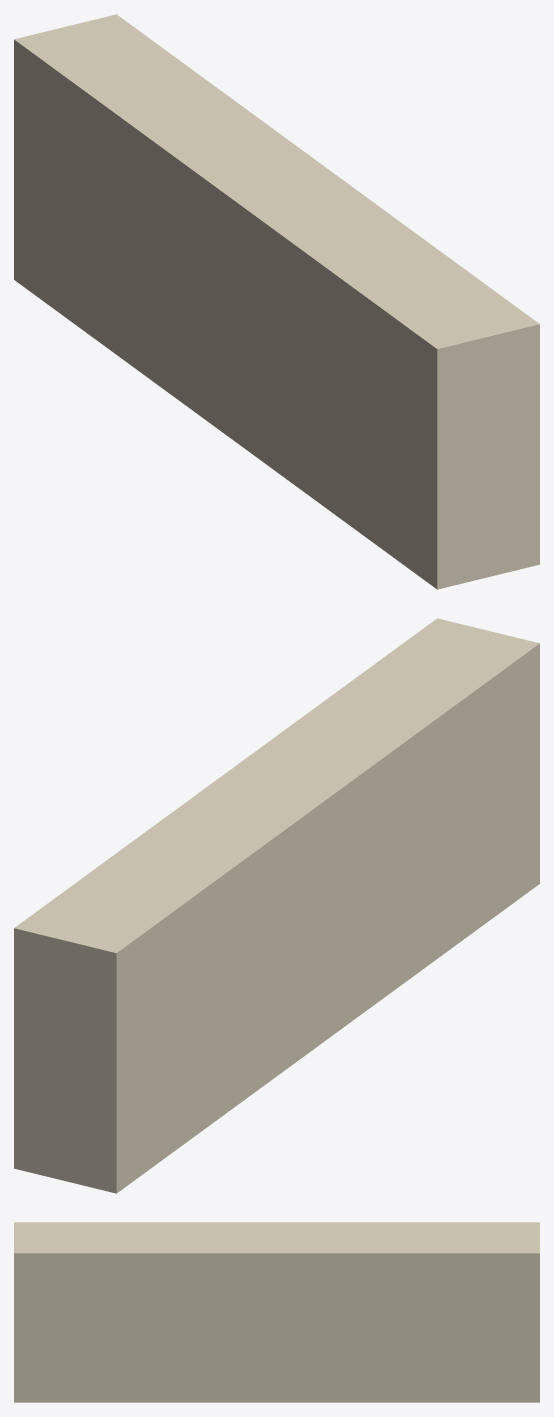
3 renders of one model, top to bottom at view 1: azimuth 30°, elevation 25°; view 2: azimuth 150°, elevation 25°; view 3: azimuth 270°, elevation 25°, orthographic. The views are drawn at different scales.
Parts seen in each view (by area): view 1: A-GF-WINDOW-008-HEAD; view 2: A-GF-WINDOW-008-HEAD; view 3: A-GF-WINDOW-008-HEAD.
Part boxes in pixels (bbox=[...]): A-GF-WINDOW-008-HEAD: bbox=[14, 14, 539, 589]; A-GF-WINDOW-008-HEAD: bbox=[14, 618, 539, 1193]; A-GF-WINDOW-008-HEAD: bbox=[14, 1222, 539, 1402].
Bounding box in the file's own units: 0.21 × 0.47 × 1.5.
